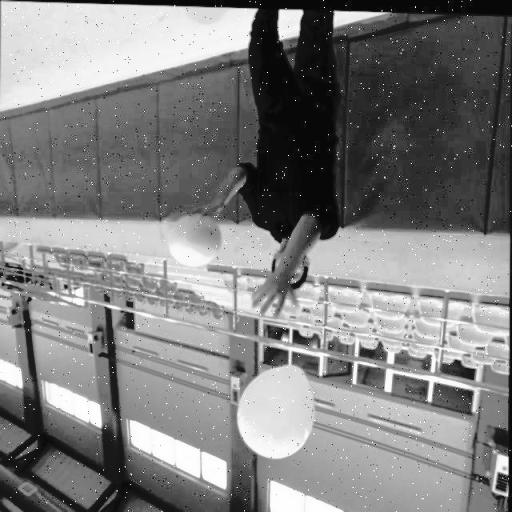balloon: (238, 361, 312, 458), (164, 214, 226, 268)
